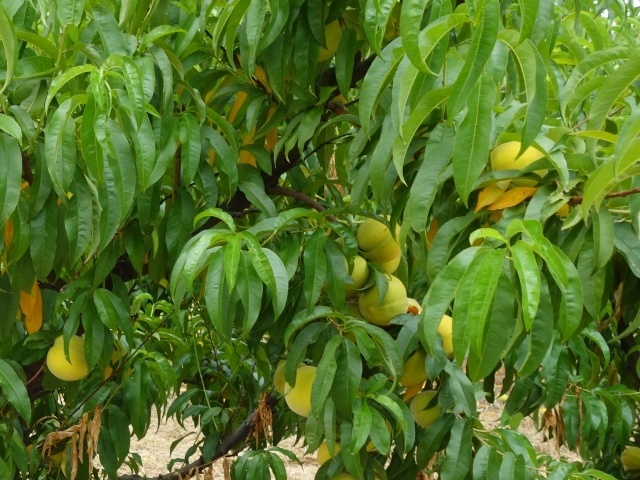peach: (486, 134, 551, 188), (356, 270, 409, 326), (45, 328, 98, 383), (351, 216, 404, 264), (284, 364, 327, 421), (392, 348, 437, 391), (410, 386, 451, 429), (335, 249, 371, 296), (315, 437, 345, 472), (619, 441, 639, 472)
